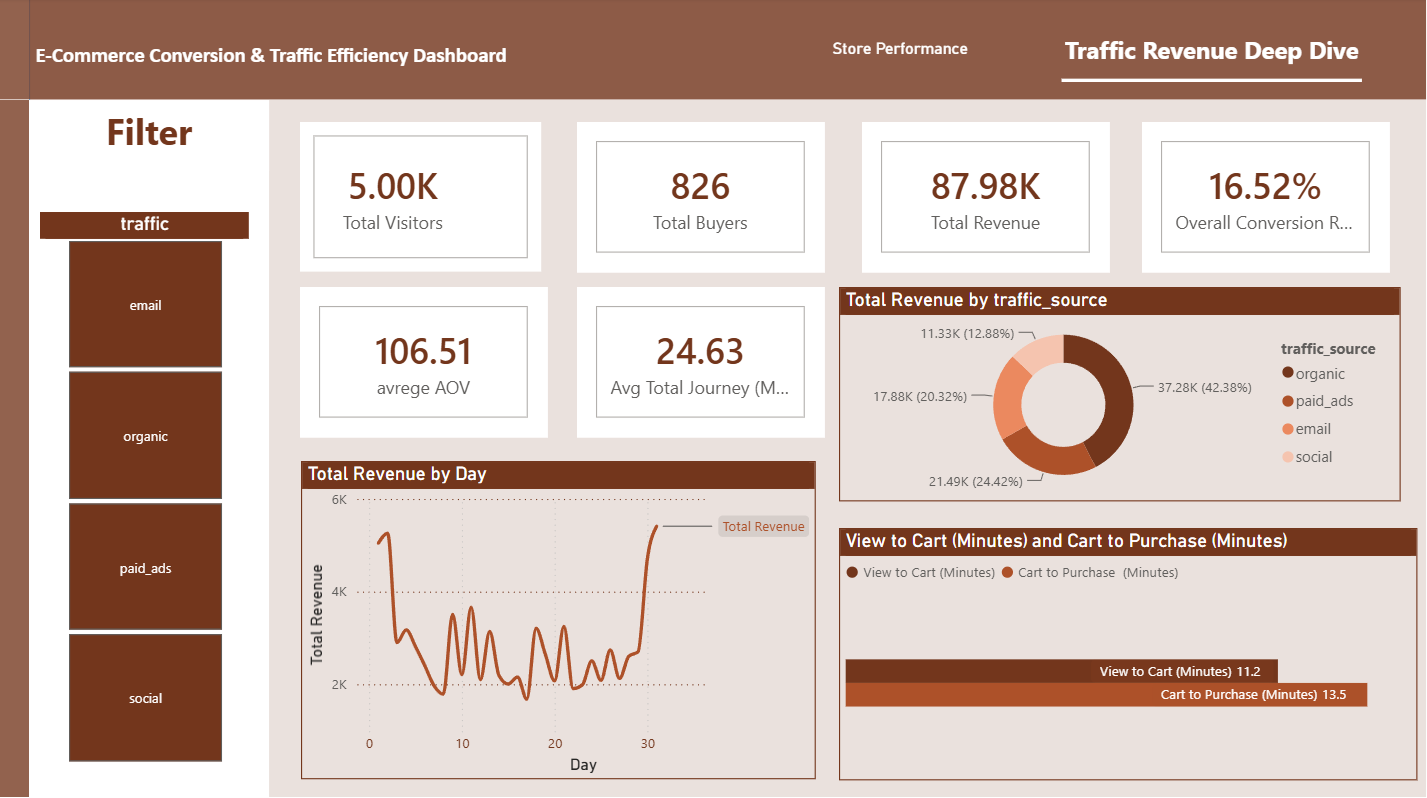

The dashboard page shown, as its layout file describes it:
{"tool":"powerbi","page":{"name":"Traffic Revenue Deep Dive","canvas":[1280,720],"ordinal":1},"visuals":[{"type":"shape","box":[26.4,0,1253.6,719.2],"z":0},{"type":"shape","box":[0,0,1280,90.8],"z":1000},{"type":"shape","box":[0,91,26.3,628.5],"z":2000},{"type":"shape","box":[26.3,91,215,628.5],"z":3000},{"type":"textbox","box":[26.4,34.5,551.5,36.8],"z":4000},{"type":"cardVisual","fields":{"Data":["user_events.Total Visitors"]},"box":[268.7,110.8,221.6,134.9],"z":5000},{"type":"cardVisual","fields":{"Data":["user_events.Total Revenue"]},"box":[772.2,110.8,221.6,134.9],"z":6000},{"type":"cardVisual","fields":{"Data":["user_events.Total Buyers"]},"box":[516.6,110.8,221.6,134.9],"z":7000},{"type":"cardVisual","fields":{"Data":["user_events.Overall Conversion Rate"]},"box":[1022.2,110.8,221.6,134.9],"z":8000},{"type":"cardVisual","fields":{"Data":["user_events.avrege AOV"]},"box":[268.7,258.9,221.6,134.9],"z":9000},{"type":"cardVisual","fields":{"Data":["user_events.Avg Total Journey (Minutes)"]},"box":[516.6,258.9,221.6,134.9],"z":10000},{"type":"textbox","box":[26.3,91,215,62.5],"z":11000},{"type":"donutChart","fields":{"Category":["user_events.traffic_source"],"Y":["user_events.Total Revenue"]},"box":[751.7,259,502.9,192],"z":12000},{"type":"clusteredBarChart","fields":{"Y":["user_events.Avg View to Cart (Minutes)","user_events.Avg Cart to Purchase (Minutes)"]},"box":[751.7,474.4,518.1,225.5],"z":13000},{"type":"slicer","title":"traffic","fields":{"Values":["user_events.traffic_source"]},"box":[35.6,191.9,187.3,498.7],"z":14000},{"type":"pageNavigator","box":[671.7,15,548.3,60.1],"z":15000},{"type":"lineChart","fields":{"Category":["user_events.event_date.Variation.Date Hierarchy.Day"],"Y":["user_events.Total Revenue"]},"box":[269.2,414.5,461.2,285.5],"z":16000}]}

Visuals, with their boxes in screenshot pixels (x1, y1, x2, y2), scaled from the page's 1280x720 canvas onto the 1427x798 screenshot:
shape: [x1=29, y1=0, x2=1426, y2=797]
shape: [x1=0, y1=0, x2=1426, y2=101]
shape: [x1=0, y1=101, x2=29, y2=797]
shape: [x1=29, y1=101, x2=269, y2=797]
textbox: [x1=29, y1=38, x2=644, y2=79]
cardVisual - user_events.Total Visitors: [x1=300, y1=123, x2=547, y2=272]
cardVisual - user_events.Total Revenue: [x1=861, y1=123, x2=1108, y2=272]
cardVisual - user_events.Total Buyers: [x1=576, y1=123, x2=823, y2=272]
cardVisual - user_events.Overall Conversion Rate: [x1=1140, y1=123, x2=1387, y2=272]
cardVisual - user_events.avrege AOV: [x1=300, y1=287, x2=547, y2=436]
cardVisual - user_events.Avg Total Journey (Minutes): [x1=576, y1=287, x2=823, y2=436]
textbox: [x1=29, y1=101, x2=269, y2=170]
donutChart - user_events.traffic_source x user_events.Total Revenue: [x1=838, y1=287, x2=1399, y2=500]
clusteredBarChart - user_events.Avg View to Cart (Minutes) x user_events.Avg Cart to Purchase (Minutes): [x1=838, y1=526, x2=1416, y2=776]
"traffic" slicer: [x1=40, y1=213, x2=248, y2=765]
pageNavigator: [x1=749, y1=17, x2=1360, y2=83]
lineChart - user_events.event_date.Variation.Date Hierarchy.Day x user_events.Total Revenue: [x1=300, y1=459, x2=814, y2=776]
